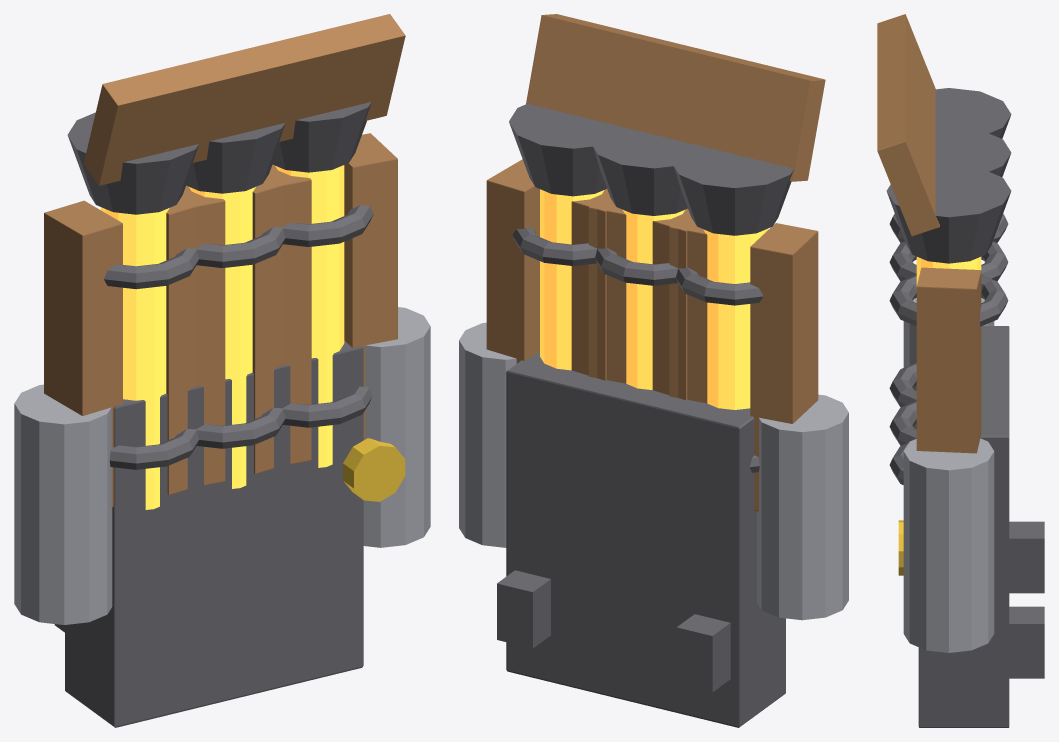
The model's file is vent-surge.glb.
3 views of the same model, side by side, from view 1: azimuth 30°, elevation 25°; view 2: azimuth 150°, elevation 25°; view 3: azimuth 270°, elevation 25° (orthographic). The views are drawn at different scales.
Parts seen in each view (by area): view 1: frame, deflector, tank_r, shroud_r-0.09, tank_l, shroud_l0.09, core-0.09, shroud_l-0.09, core0.09, shroud_l0, shroud_r0.09, shroud_r0 (+11 smaller); view 2: frame, deflector, tank_r, shroud_r-0.09, tank_l, shroud_l0.09, flare-0.09, flare0, core-0.09, flare0.09, core0.09, shroud_r0 (+9 smaller); view 3: tank_l, frame, shroud_l0.09, deflector, flare0.09, flare0, flare-0.09, strut_l, strut_r, band20.09, band20, band1-0.09 (+6 smaller).
Part boxes in pixels (bbox=[...]): frame: bbox=[65, 340, 363, 727]; deflector: bbox=[83, 14, 405, 185]; tank_r: bbox=[14, 384, 112, 624]; shroud_r-0.09: bbox=[44, 200, 122, 507]; tank_l: bbox=[363, 307, 430, 547]; shroud_l0.09: bbox=[344, 133, 397, 439]; core-0.09: bbox=[100, 207, 169, 509]; shroud_l-0.09: bbox=[176, 185, 225, 485]; core0.09: bbox=[275, 165, 344, 467]; shroud_l0: bbox=[267, 164, 311, 464]; shroud_r0.09: bbox=[252, 167, 294, 474]; shroud_r0: bbox=[166, 188, 207, 495]; frame: bbox=[506, 352, 785, 727]; deflector: bbox=[526, 14, 825, 181]; tank_r: bbox=[757, 394, 848, 620]; shroud_r-0.09: bbox=[750, 223, 818, 511]; tank_l: bbox=[459, 322, 516, 547]; shroud_l0.09: bbox=[486, 159, 539, 363]; flare-0.09: bbox=[674, 144, 793, 235]; flare0: bbox=[590, 123, 712, 215]; core-0.09: bbox=[703, 228, 767, 409]; flare0.09: bbox=[509, 104, 632, 196]; core0.09: bbox=[540, 189, 604, 370]; shroud_r0: bbox=[669, 210, 707, 403]; tank_l: bbox=[903, 438, 994, 652]; frame: bbox=[918, 326, 1009, 727]; shroud_l0.09: bbox=[916, 267, 981, 453]; deflector: bbox=[877, 14, 939, 236]; flare0.09: bbox=[886, 165, 1011, 263]; flare0: bbox=[935, 126, 1011, 178]; flare-0.09: bbox=[935, 88, 1011, 140]; strut_l: bbox=[1009, 606, 1044, 678]; strut_r: bbox=[1009, 521, 1044, 593]; band20.09: bbox=[889, 275, 1008, 326]; band20: bbox=[889, 241, 1008, 281]; band1-0.09: bbox=[889, 362, 916, 407].
Size of the model in its own units: 0.42 by 0.6521 by 0.1662.
